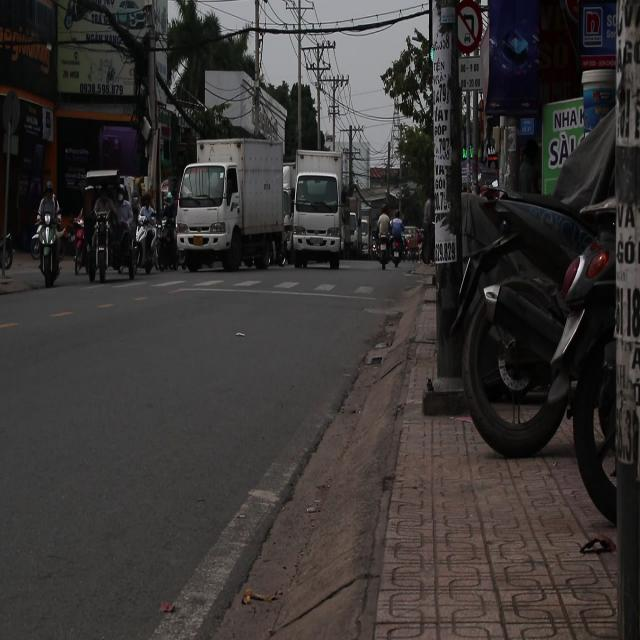motorbike: (84, 209, 134, 297), (124, 205, 170, 293), (62, 193, 94, 293), (31, 212, 64, 288), (373, 200, 393, 275)
truck: (176, 140, 285, 272), (284, 151, 344, 272), (338, 187, 366, 261)
